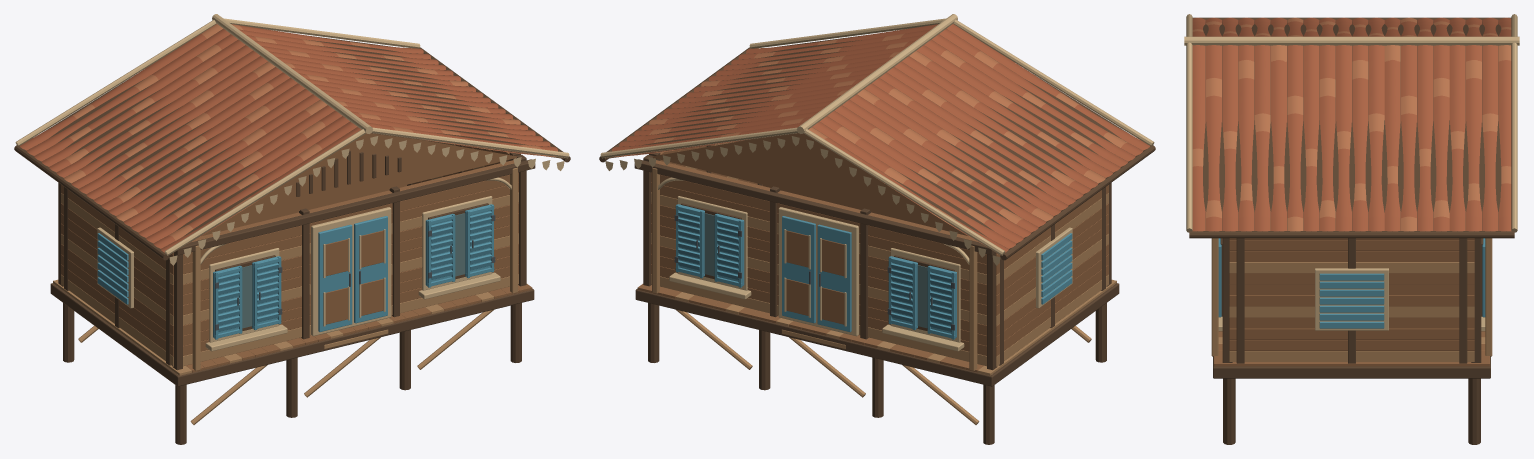
File: thonburi-canal-house.glb
3 renders of one model, left to right at view 1: azimuth 30°, elevation 25°; view 2: azimuth 150°, elevation 25°; view 3: azimuth 270°, elevation 25°, orthographic. The views are drawn at different scales.
Visible parts, largest first — view 1: HouseRoofMesh, HouseFrontMesh, HouseBaseMesh, HouseWestMesh, HouseBackMesh; view 2: HouseRoofMesh, HouseBackMesh, HouseBaseMesh, HouseWestMesh, HouseFrontMesh; view 3: HouseRoofMesh, HouseEastMesh, HouseBaseMesh, HouseBackMesh, HouseFrontMesh.
Boxes of the visible parts, bbox=[...] form: HouseRoofMesh: bbox=[14, 14, 570, 265]; HouseFrontMesh: bbox=[172, 154, 535, 370]; HouseBaseMesh: bbox=[50, 279, 534, 444]; HouseWestMesh: bbox=[61, 184, 173, 366]; HouseBackMesh: bbox=[58, 183, 406, 286]; HouseRoofMesh: bbox=[599, 14, 1155, 265]; HouseBackMesh: bbox=[634, 154, 997, 370]; HouseBaseMesh: bbox=[635, 279, 1119, 444]; HouseWestMesh: bbox=[996, 184, 1108, 366]; HouseFrontMesh: bbox=[763, 183, 1111, 286]; HouseRoofMesh: bbox=[1184, 14, 1519, 238]; HouseEastMesh: bbox=[1229, 238, 1474, 363]; HouseBaseMesh: bbox=[1213, 331, 1490, 444]; HouseBackMesh: bbox=[1471, 238, 1492, 362]; HouseFrontMesh: bbox=[1211, 238, 1232, 362].
Bounding box in the file's own units: 8.99 × 6.12 × 5.88.
